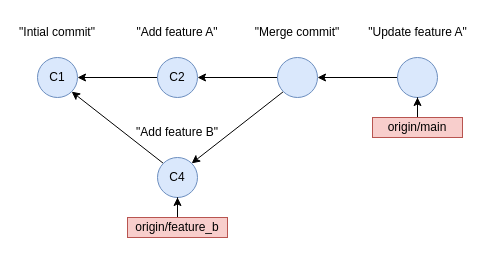
Image size: 487x255. Some labels were removed from this diagram. Here are the shapes that lost their labels. From the top down, the box of each, then its label:
(276, 56, 318, 98): C3
(396, 56, 438, 98): C5
